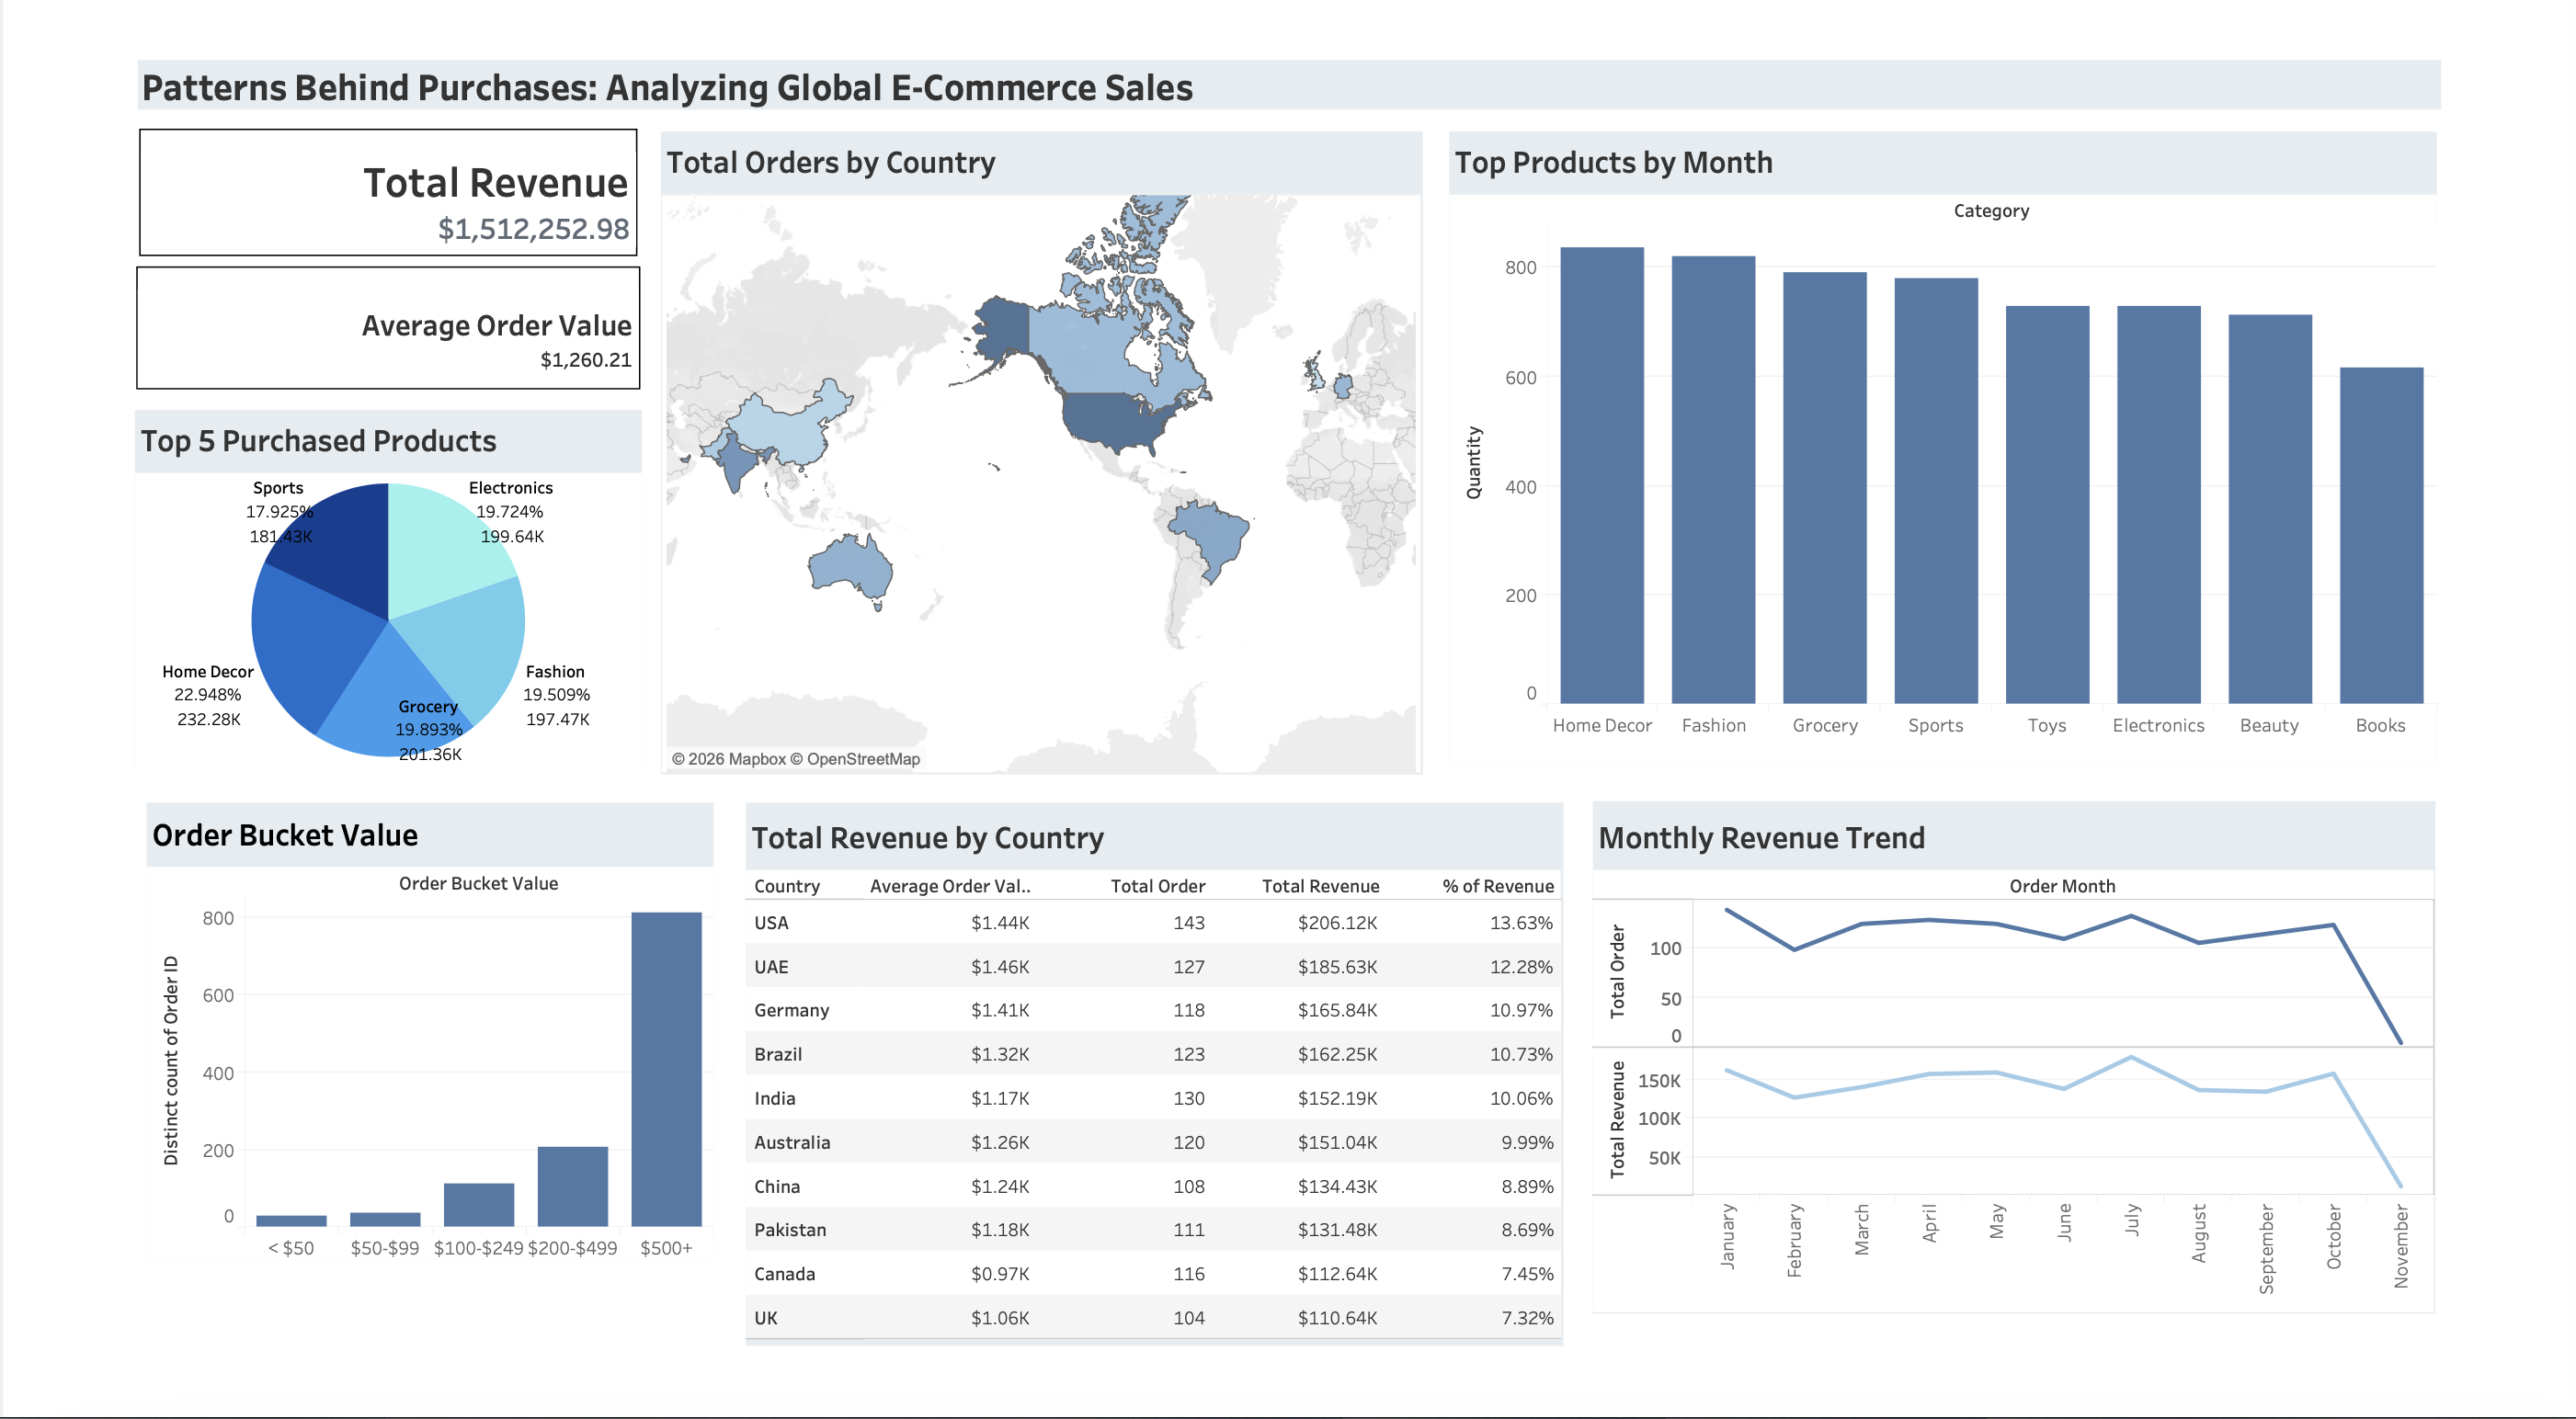

This screenshot's page, from the dashboard's own definition file:
{"tool":"tableau","page":{"name":"Dashboard 1","canvas":[1600,900],"ordinal":0},"visuals":[{"type":"title","box":[8,8,1584,45]},{"type":"worksheet","title":"Total Revenue","mark":"Automatic","box":[8,53,354.1,101]},{"type":"worksheet","title":"Total Orders by Country","mark":"Automatic","box":[362.1,53,528,463]},{"type":"worksheet","title":"Top Products by Month","mark":"Automatic","rows":["Quantity"],"cols":["Category"],"box":[890.1,53,701.9,463]},{"type":"worksheet","title":"Average Order Value","mark":"Automatic","box":[8,154,354.1,94]},{"type":"worksheet","title":"Top 5 Products Bought in Country","mark":"Pie","box":[8,248,354.1,268]},{"type":"worksheet","title":"Order Bucket Value","mark":"Bar","rows":["Order_ID"],"cols":["Calculation_3657012929118210"],"box":[8,516,411,376]},{"type":"worksheet","title":"Total Revenue by Country","mark":"Automatic","rows":["Country"],"box":[419,516,578,376]},{"type":"worksheet","title":"Monthly Revenue Trend","mark":"Line","rows":["Calculation_3657012930867204","Calculation_3657012923666432"],"cols":["Calculation_3657012937265159"],"box":[997,516,594.8,376]}]}

Visuals, with their boxes in screenshot pixels (x1, y1, x2, y2), scaled from the page's 1600x900 canvas onto the 2576x1419 screenshot:
title: box(13, 13, 2563, 84)
"Total Revenue" worksheet: box(13, 84, 583, 243)
"Total Orders by Country" worksheet: box(583, 84, 1433, 813)
"Top Products by Month" worksheet: box(1433, 84, 2563, 813)
"Average Order Value" worksheet: box(13, 243, 583, 391)
"Top 5 Products Bought in Country" worksheet (Pie marks): box(13, 391, 583, 813)
"Order Bucket Value" worksheet (Bar marks): box(13, 813, 675, 1406)
"Total Revenue by Country" worksheet: box(675, 813, 1605, 1406)
"Monthly Revenue Trend" worksheet (Line marks): box(1605, 813, 2563, 1406)
